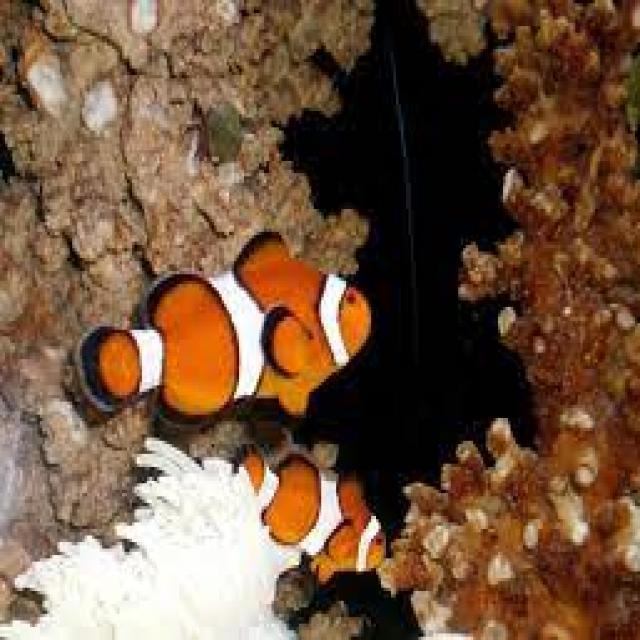ClownFish: (74, 230, 370, 420), (231, 436, 386, 583)
